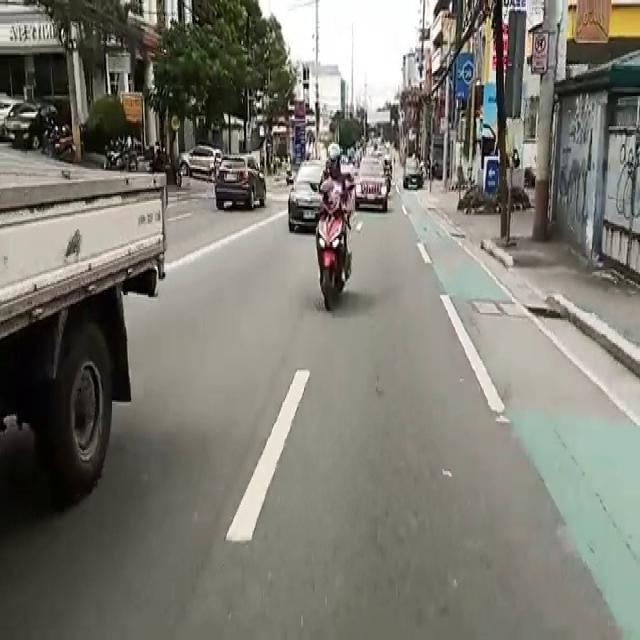car: (211, 154, 265, 217), (2, 97, 64, 151), (285, 156, 318, 230), (355, 163, 390, 217), (178, 143, 226, 176), (403, 152, 425, 190)
motorcycle: (316, 146, 352, 314)
truck: (0, 143, 155, 493)
